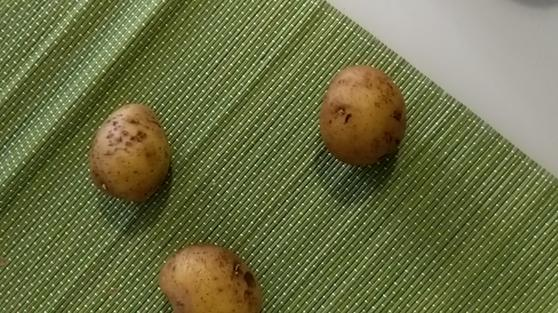potato: (324, 62, 413, 162), (96, 103, 174, 203), (164, 240, 254, 313)
